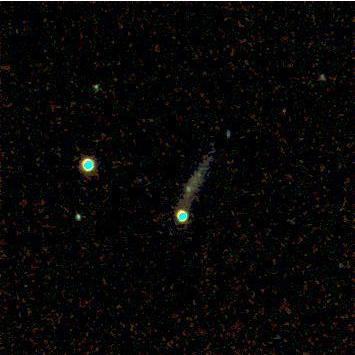star: (182, 158, 212, 188)
